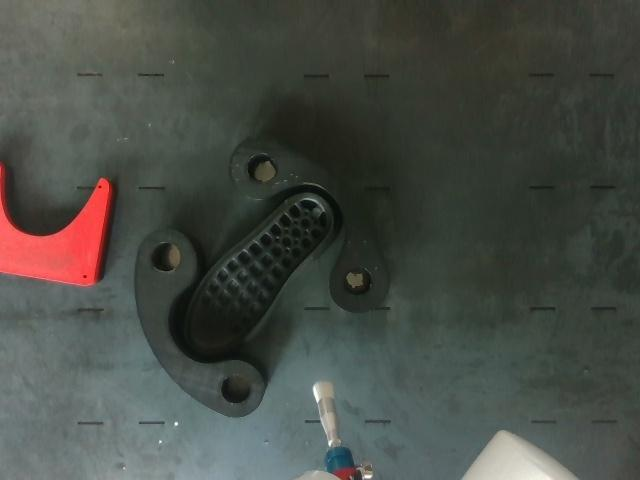shoes: (185, 193, 333, 353)
